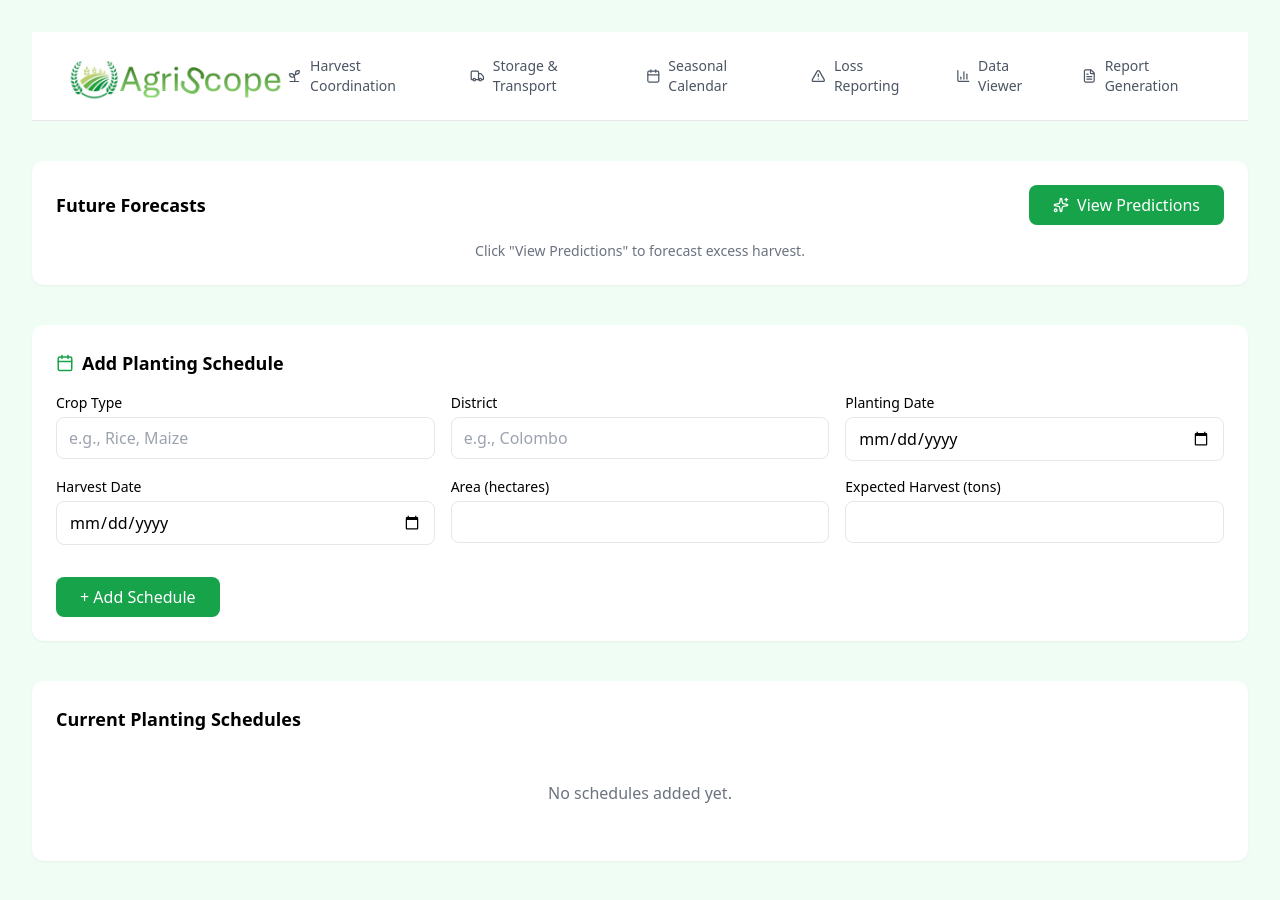
Scenario: HarvestCoordination - Predictions › shows error message when prediction fails
This screenshot has width=1280, height=900.
Click the button "View Predictions" at (1126, 205), box [1029,185,1224,225]
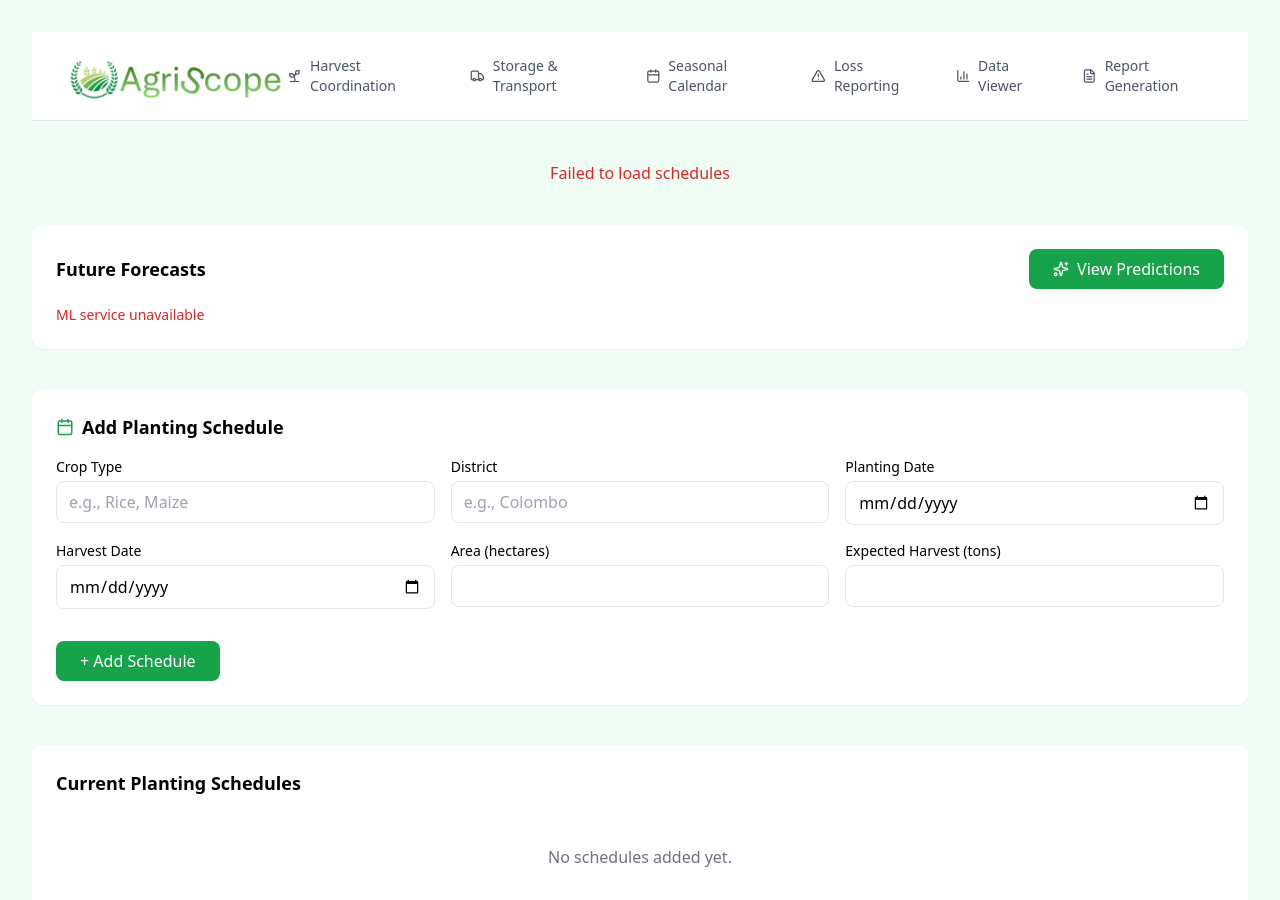
Expected: the text "ML service unavailable" is shown, [56,305,204,324]
